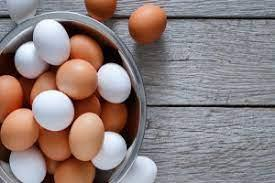egg: (69, 111, 104, 168), (31, 88, 76, 132), (32, 16, 70, 65), (56, 59, 100, 101), (0, 108, 39, 150), (128, 6, 169, 42), (96, 62, 130, 104), (6, 149, 47, 183), (93, 130, 126, 170), (69, 33, 106, 68), (14, 40, 46, 78), (0, 73, 24, 121), (56, 156, 97, 182)
